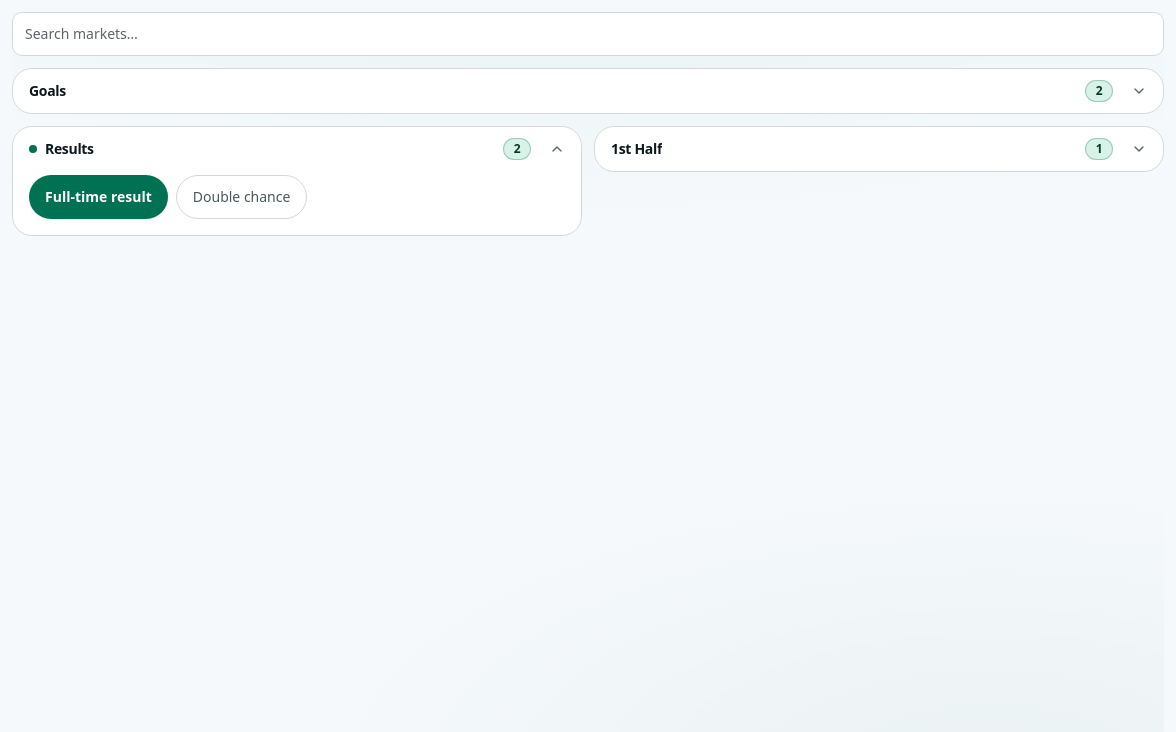
Scenario: MarketSelector › filters markets by text, keeping their groups
The image size is (1176, 732).
In the search field with placeholder "Search markets…": {"x": 588, "y": 34} x1=12 y1=12 x2=1164 y2=56, type "over"
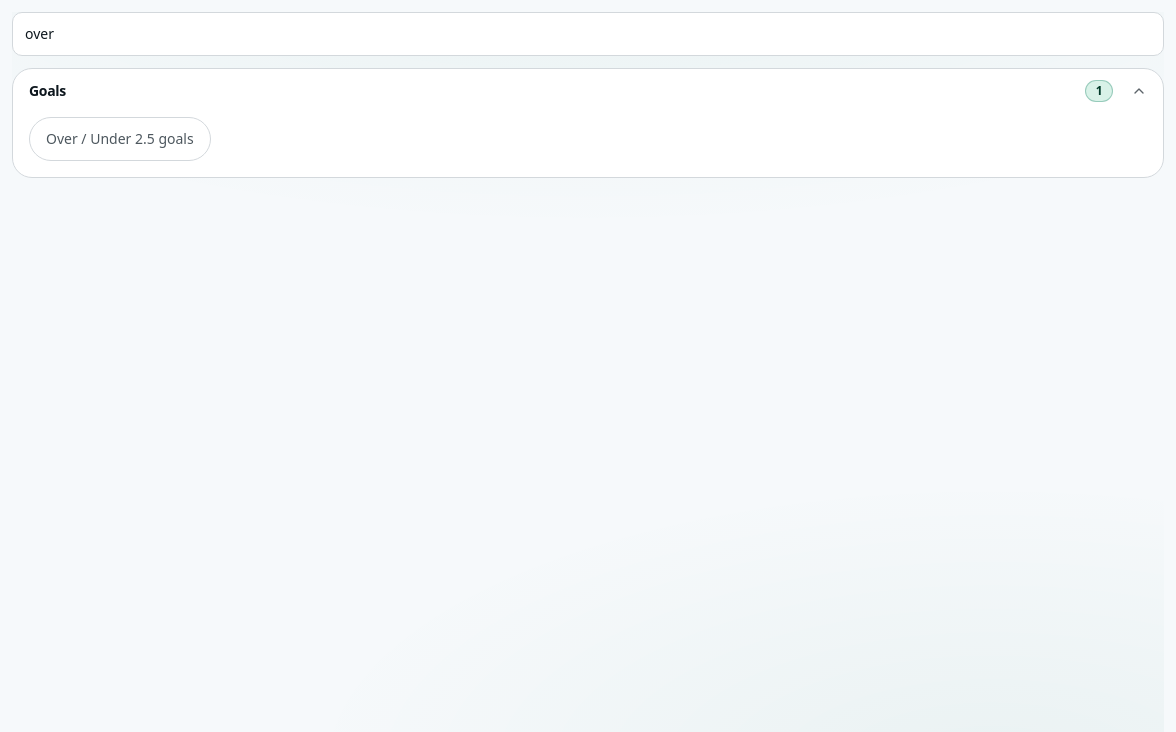
Now the button "Over / Under 2.5 goals" is shown, box x1=29 y1=117 x2=211 y2=161
Now the button "Double chance" is gone
Now the button "Results" is gone
